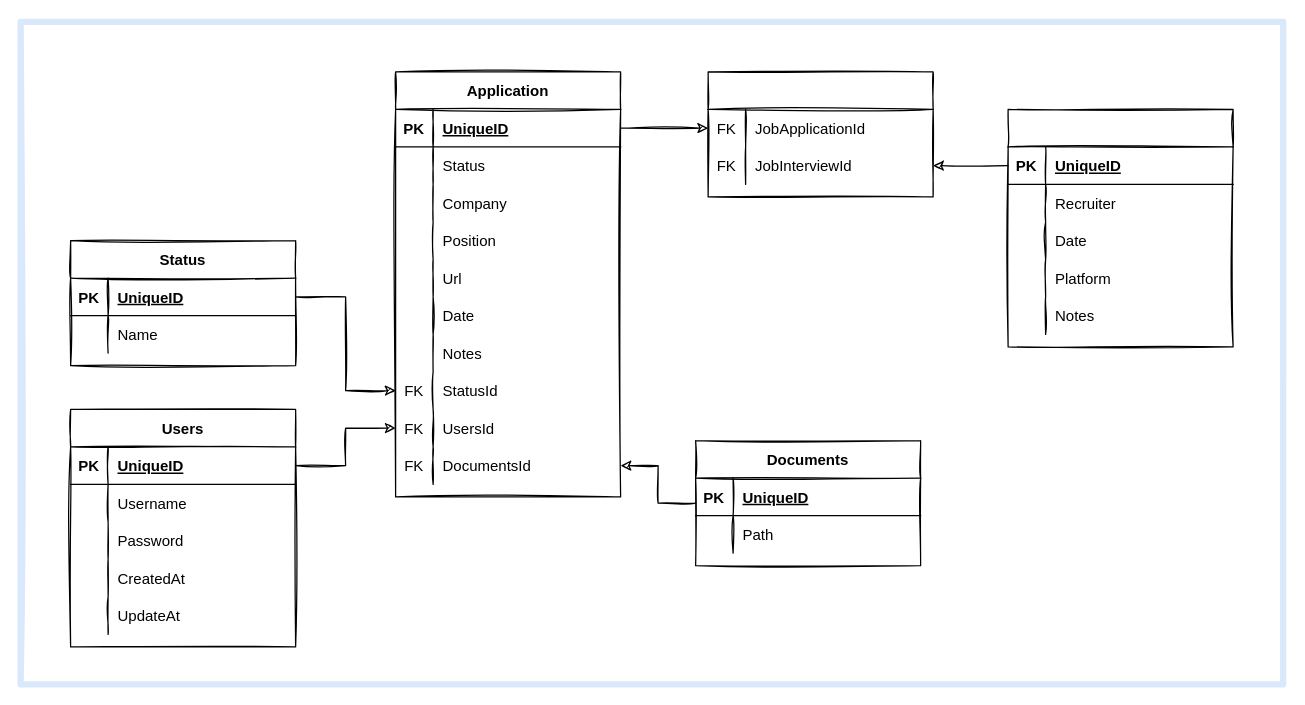
Some shapes in this 1305 by 705 pixel diagram are drawn without their labels. Here are the shapes that lost their labels. From the top down, the box of each, then its label:
(707, 71, 933, 197): Application_Interview
(1007, 108, 1233, 347): Interview
